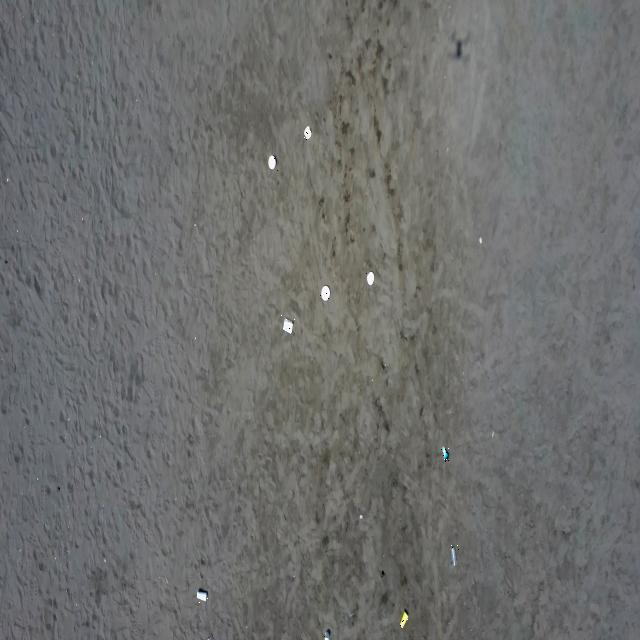take-away-containers: (280, 315, 294, 336), (320, 282, 331, 302), (303, 123, 313, 141), (268, 154, 278, 171), (366, 270, 375, 287)
takeaway-cup: (399, 608, 410, 630), (449, 544, 459, 567), (196, 589, 208, 603), (441, 445, 449, 462), (324, 630, 331, 640)
